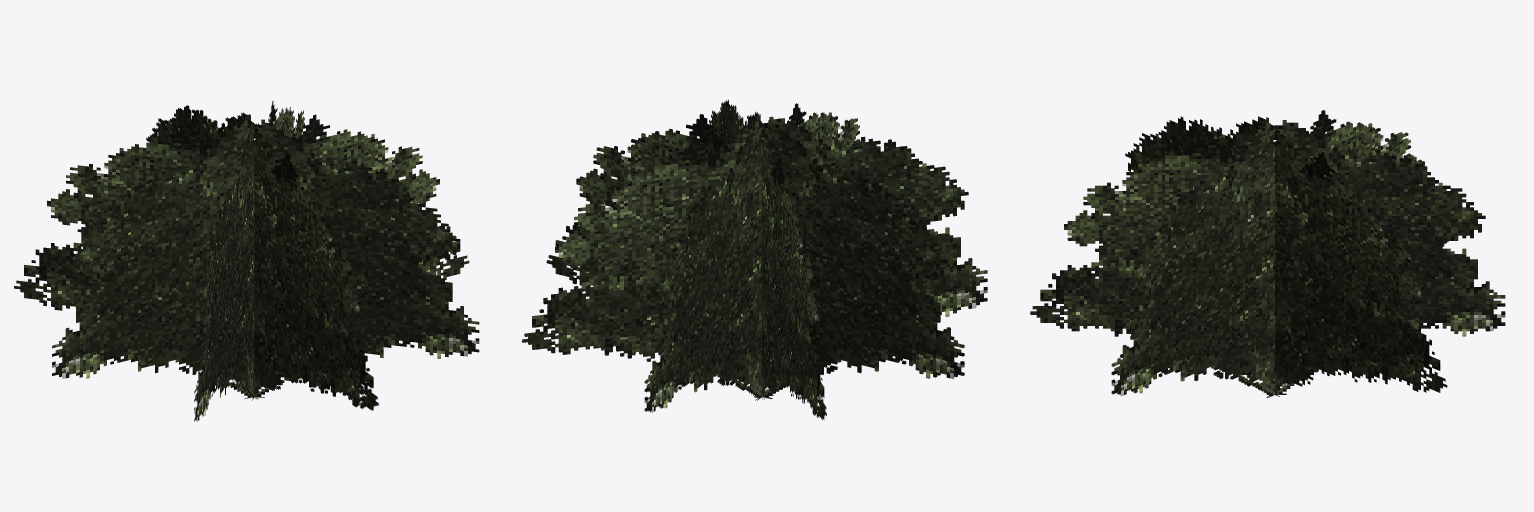
Rendered from bush02.glb.
3 views of the same model, side by side, from view 1: azimuth 30°, elevation 25°; view 2: azimuth 150°, elevation 25°; view 3: azimuth 270°, elevation 25° (orthographic).
Parts seen in each view (by area): view 1: bush02; view 2: bush02; view 3: bush02.
Part boxes in pixels (box(x1,y1,x2,y2)): bush02: box(14, 100, 479, 422); bush02: box(522, 100, 987, 420); bush02: box(1030, 110, 1505, 397).
Size of the model in its own units: 1.92 by 1.2 by 1.92.
Materials: 1 (1 with a texture image).
